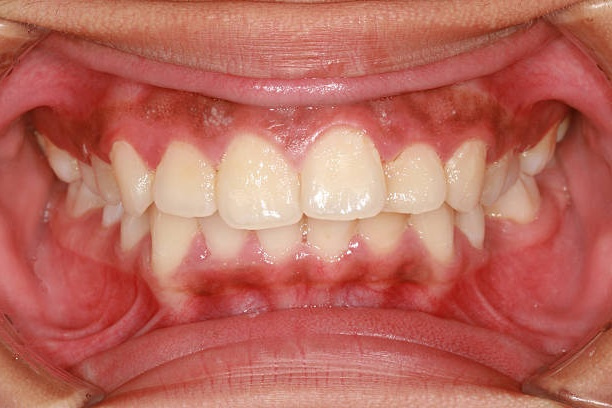Gingivitis: (175, 257, 428, 307), (377, 91, 498, 140), (130, 97, 235, 136)
